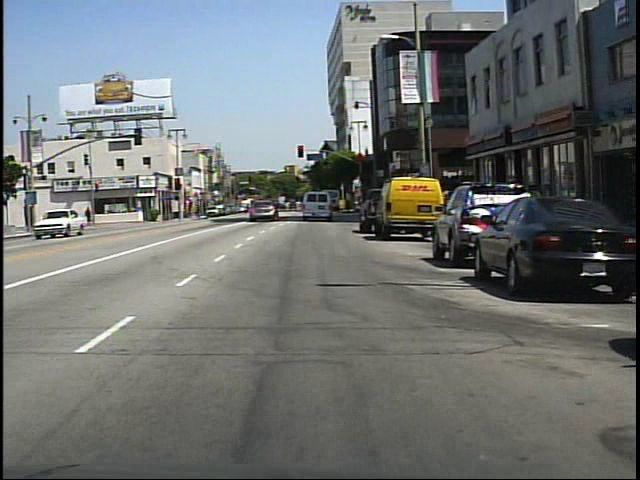person: (254, 192, 271, 222), (83, 203, 98, 231)
